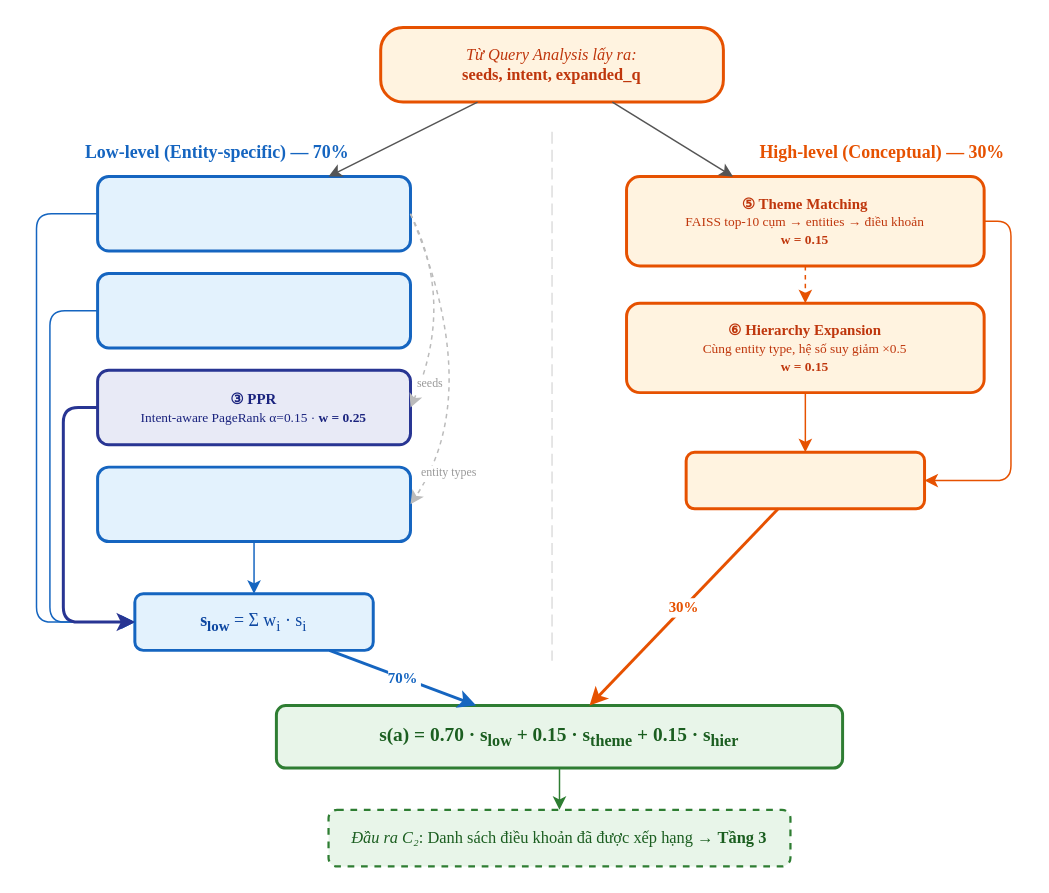
The diagram is 1049 pixels wide and 893 high, and some of its shapes have lost their labels. Here are the shapes that lost their labels. From the top down, the centre of each, then its label:
At [253,213]: "① Keyphrase Jaro-Winkler syllable · w = 0.05".
At [253,310]: "② Semantic MiniLM-L12 cosine · w = 0.20".
At [804,480]: "s theme , s hier".
At [253,503]: "④ Concept Ontology type spread · w = 0.20".
